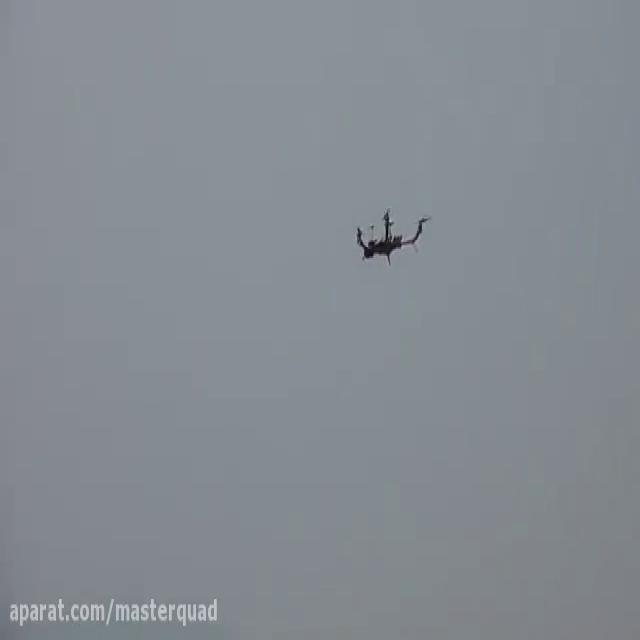drone: (348, 197, 434, 274)
